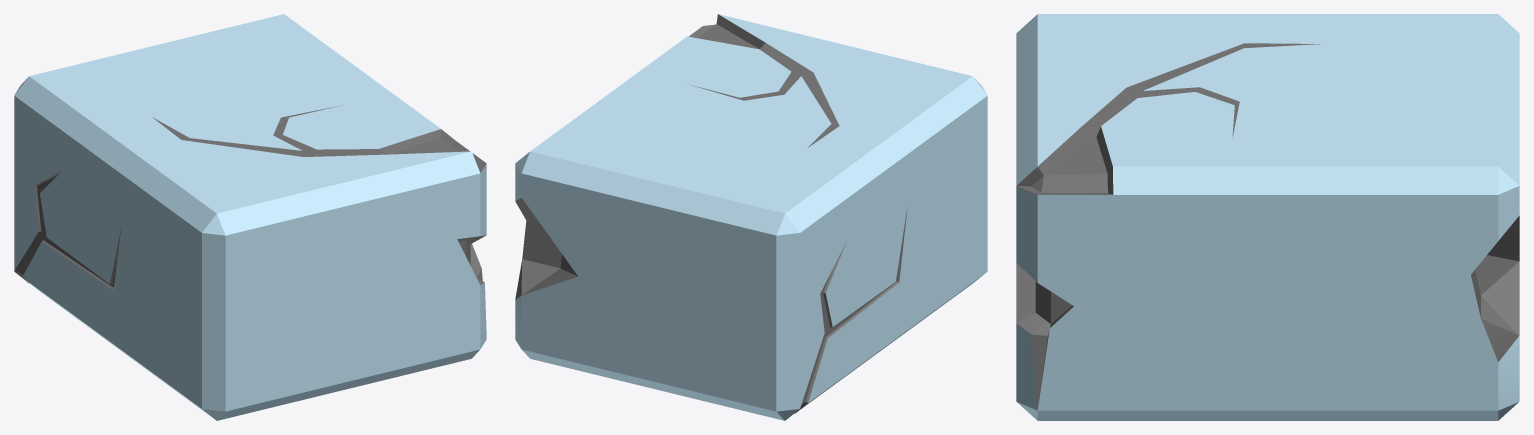
File: StoneBlock2.fbx
The picture shows the model from 3 angles, left to right: view 1: azimuth 30°, elevation 25°; view 2: azimuth 150°, elevation 25°; view 3: azimuth 270°, elevation 25°; orthographic projection. The views are drawn at different scales.
Parts seen in each view (by area): view 1: StoneBlock2_LOD0; view 2: StoneBlock2_LOD0; view 3: StoneBlock2_LOD0.
Boxes of the visible parts, box(x1,y1,x2,y2) form: StoneBlock2_LOD0: box(14, 14, 486, 420); StoneBlock2_LOD0: box(515, 14, 987, 420); StoneBlock2_LOD0: box(1016, 14, 1519, 420).
Size of what is drawn, in the model's own units: 590 by 410 by 735.
